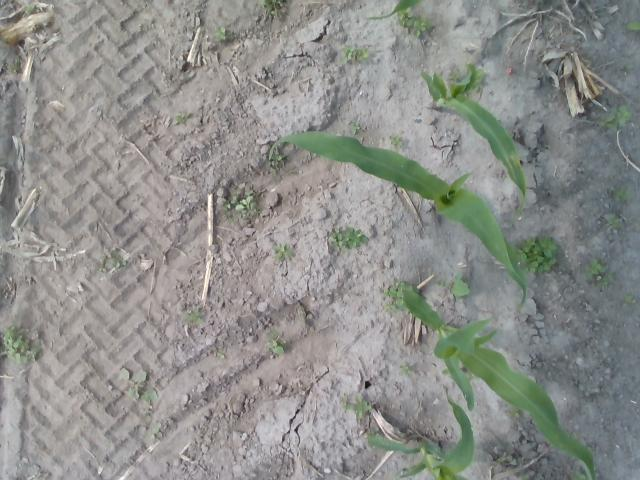Maize: (269, 129, 528, 313), (399, 287, 597, 480), (420, 62, 528, 220), (366, 388, 476, 480)
Weeds: (516, 234, 558, 276), (2, 325, 42, 365), (382, 278, 419, 313), (598, 102, 632, 132), (222, 191, 261, 217), (119, 367, 147, 399), (330, 227, 370, 248), (341, 394, 372, 420), (448, 272, 471, 300), (98, 250, 126, 272), (258, 0, 287, 19), (265, 148, 285, 174), (266, 329, 286, 354), (584, 257, 606, 278), (412, 15, 433, 37), (140, 422, 162, 440), (184, 306, 204, 325), (612, 184, 632, 202), (470, 69, 485, 93), (397, 6, 414, 27), (272, 244, 292, 260), (596, 272, 615, 286), (341, 45, 356, 62), (140, 388, 158, 402), (604, 214, 622, 228), (172, 112, 191, 125), (461, 366, 477, 380), (214, 26, 228, 41), (356, 46, 370, 61), (569, 470, 589, 480), (449, 67, 460, 84), (389, 134, 402, 148), (398, 364, 412, 376), (626, 20, 640, 32), (24, 3, 36, 15), (351, 122, 362, 134), (8, 65, 22, 74), (510, 406, 520, 418), (566, 430, 579, 439), (494, 456, 507, 464), (622, 294, 634, 302), (436, 278, 446, 287), (622, 63, 634, 70), (218, 348, 226, 358), (441, 368, 451, 375), (520, 474, 530, 480)
